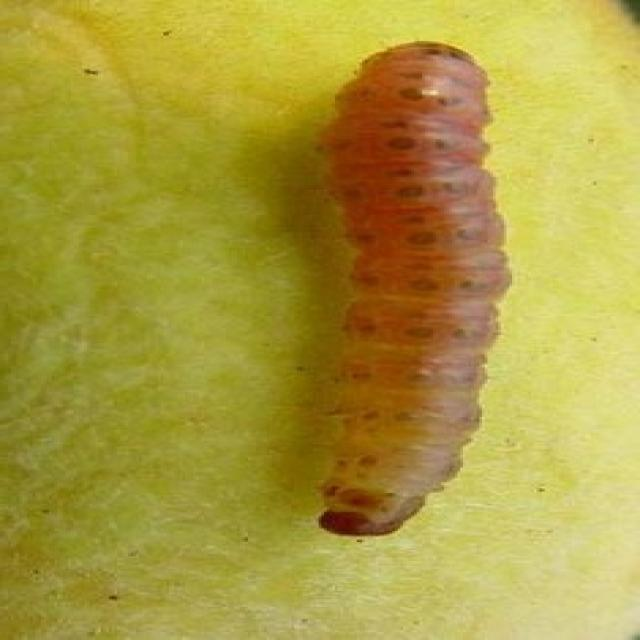peach borer: (298, 41, 521, 539)
